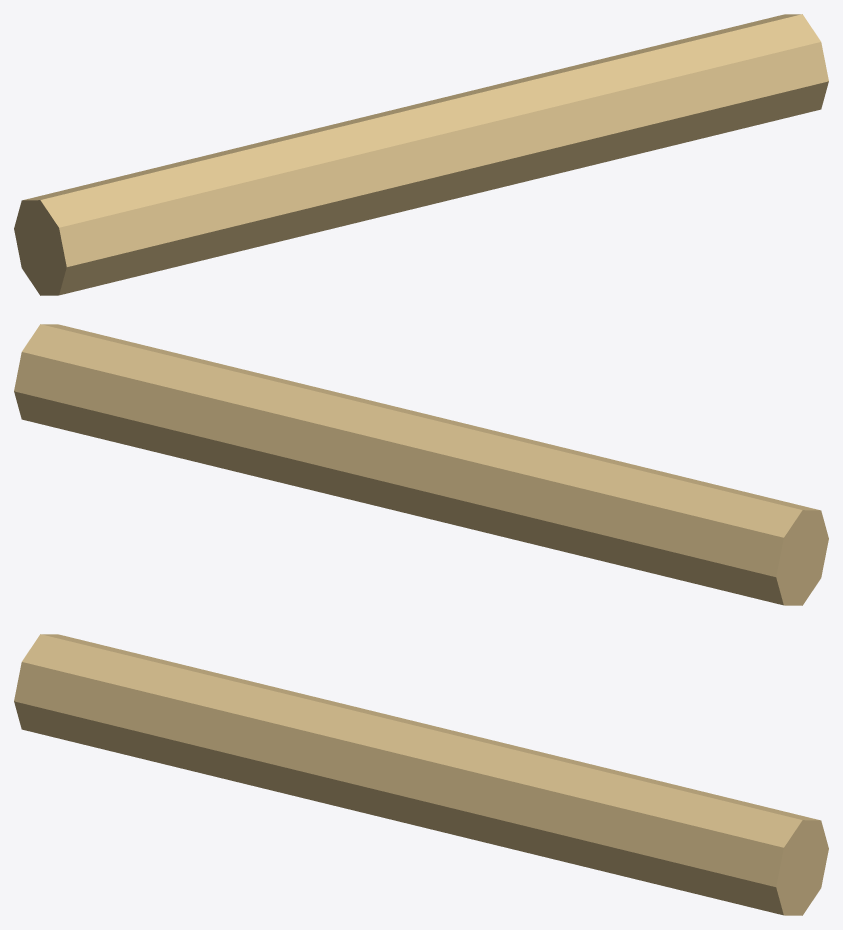
Rendered from Pipe.fbx.
3 views of the same model, one above another, from view 1: azimuth 30°, elevation 25°; view 2: azimuth 150°, elevation 25°; view 3: azimuth 330°, elevation 25° (orthographic).
Parts seen in each view (by area): view 1: Pipe; view 2: Pipe; view 3: Pipe.
Boxes of the visible parts, bbox=[...] form: Pipe: bbox=[14, 14, 828, 295]; Pipe: bbox=[14, 324, 828, 605]; Pipe: bbox=[14, 634, 828, 915].
Size of the model in its own units: 1 by 0.12 by 0.12.
